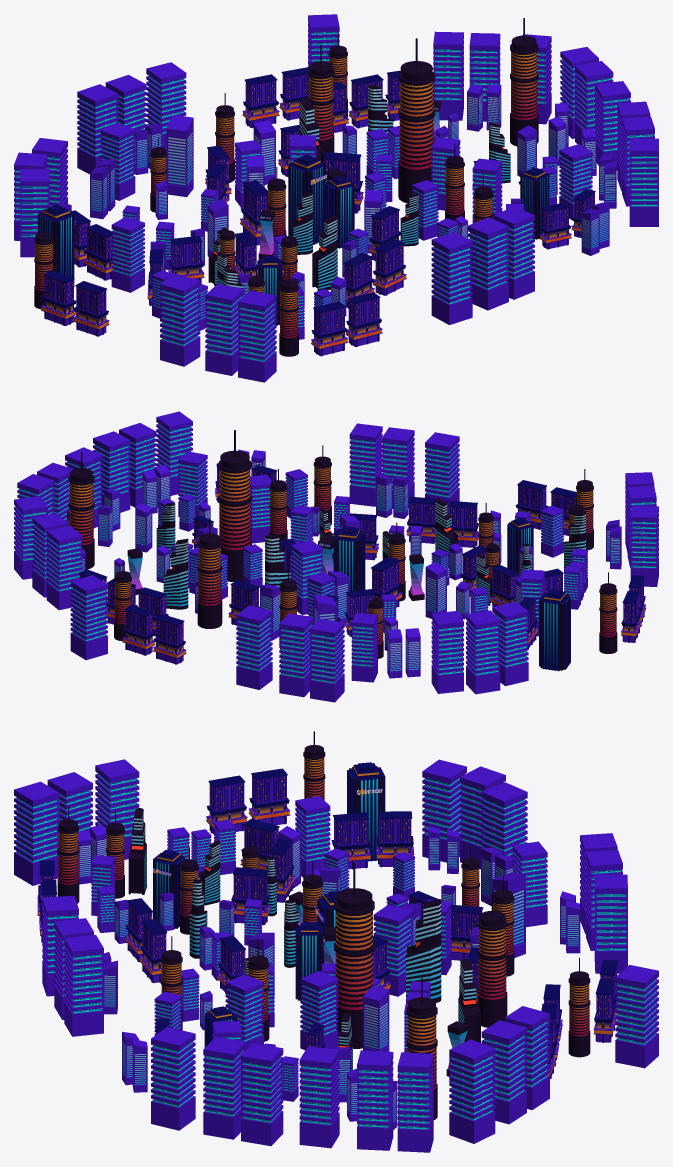
Rendered from Buildings.fbx.
The picture shows the model from 3 angles, top to bottom: view 1: azimuth 30°, elevation 25°; view 2: azimuth 150°, elevation 25°; view 3: azimuth 270°, elevation 25°; orthographic projection. The views are drawn at different scales.
Parts seen in each view (by area): view 1: TB_3.006, CB_2.029, CB_2.044, CB_2.028, CB_2.030, CB_2.045, TB_3.011, CB_2.040, CB_2.047, CB_2.035, CB_2.032, CB_2.043 (+79 smaller); view 2: TB_3.006, CB_2.036, CB_2.049, CB_2.047, CB_2.033, CB_2.020, CB_2.035, CB_2.046, CR.001, CB_2.032, CB_2.031, TB_3.014 (+80 smaller); view 3: TB_3.006, CB_2.039, CB_2.040, CB_2.036, CB_2.041, CB_2.028, CB_2.042, CB_2.032, CB_2.050, CB_2.038, CB_2.037, CB_2.034 (+73 smaller).
Boxes of the visible parts, x1,y1,x2,y2 form: TB_3.006: (398, 38, 435, 203); CB_2.029: (431, 232, 472, 324); CB_2.044: (160, 274, 200, 366); CB_2.028: (238, 290, 276, 382); CB_2.030: (467, 217, 508, 310); CB_2.045: (205, 283, 244, 375); TB_3.011: (510, 18, 538, 146); CB_2.040: (629, 138, 658, 226); CB_2.047: (77, 84, 118, 174); CB_2.035: (433, 31, 463, 120); CB_2.032: (493, 206, 534, 299); CB_2.043: (111, 216, 144, 292); TB_3.006: (218, 430, 251, 581); CB_2.036: (70, 575, 107, 660); CB_2.049: (236, 605, 272, 689); CB_2.047: (310, 618, 344, 702); CB_2.033: (466, 610, 500, 694); CB_2.020: (431, 611, 463, 693); CB_2.035: (46, 525, 82, 610); CB_2.046: (279, 613, 313, 697); CR.001: (537, 589, 570, 671); CB_2.032: (349, 423, 382, 506); CB_2.031: (492, 601, 528, 686); TB_3.014: (197, 518, 222, 628); TB_3.006: (334, 862, 374, 1048); CB_2.039: (449, 1039, 495, 1143); CB_2.040: (151, 1026, 195, 1130); CB_2.036: (615, 965, 658, 1068); CB_2.041: (241, 1043, 283, 1146); CB_2.028: (14, 781, 59, 885); CB_2.042: (299, 1046, 339, 1148); CB_2.032: (64, 935, 103, 1036); CB_2.050: (203, 1036, 245, 1139); CB_2.038: (397, 1052, 433, 1152); CB_2.037: (357, 1050, 393, 1150); CB_2.034: (481, 1020, 526, 1124).
Size of the model in its own units: 9822 by 2542 by 8004.
